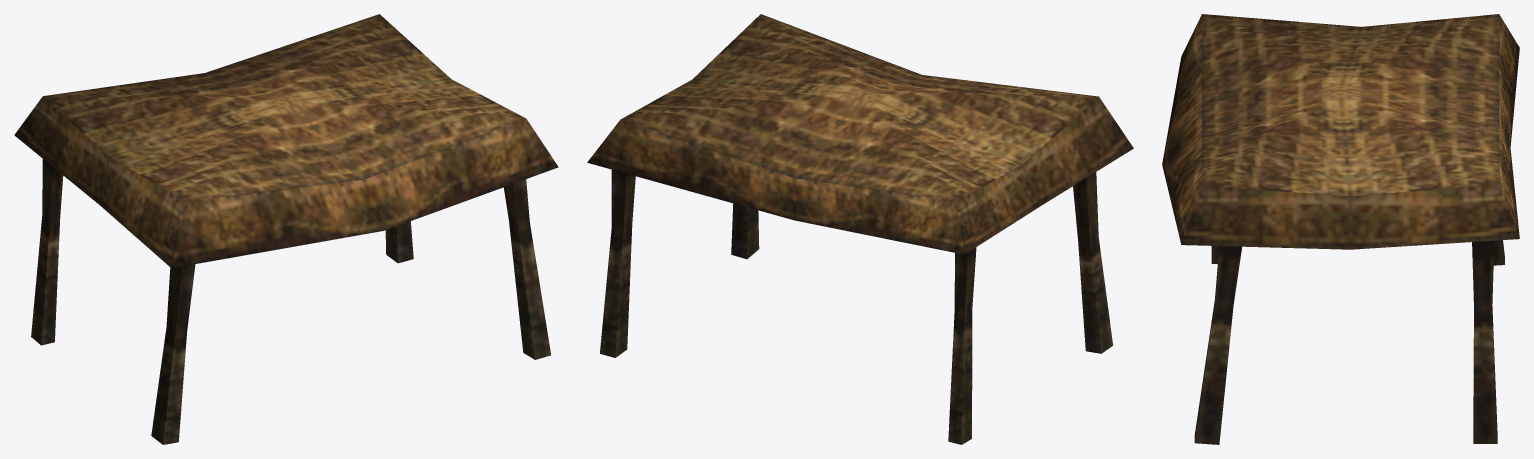
Rendered from b_general_obj_07_01.fbx.
3 views of the same model, side by side, from view 1: azimuth 30°, elevation 25°; view 2: azimuth 150°, elevation 25°; view 3: azimuth 270°, elevation 25° (orthographic). The views are drawn at different scales.
Visible parts, largest first — view 1: B_general_obj_06; view 2: B_general_obj_06; view 3: B_general_obj_06.
Boxes of the visible parts, x1=… form: B_general_obj_06: x1=14, y1=14, x2=558, y2=444; B_general_obj_06: x1=587, y1=14, x2=1133, y2=444; B_general_obj_06: x1=1162, y1=14, x2=1519, y2=444.
Bounding box in the file's own units: 4.57 × 2.85 × 3.54.
